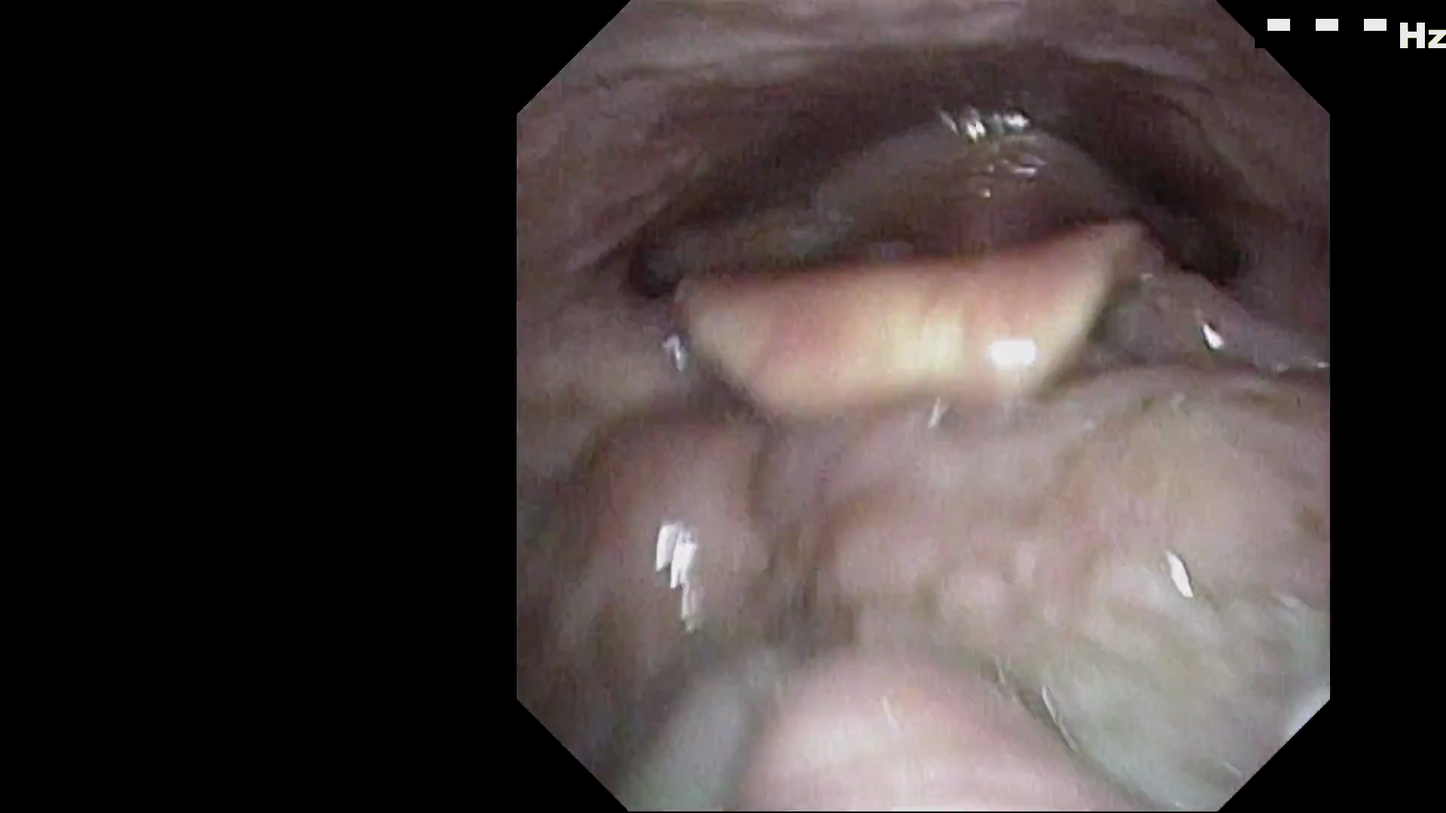epiglottis: (653, 242, 1226, 422)
